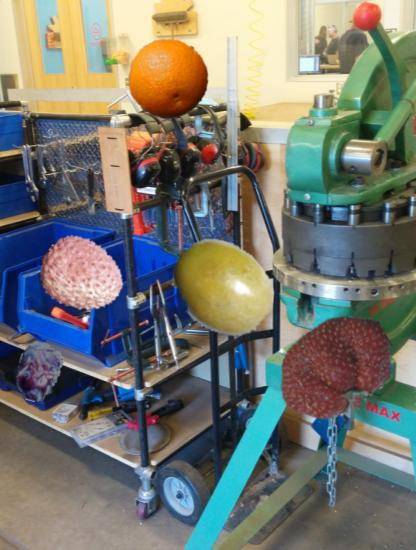Dates: (8, 342, 68, 402)
Lychee: (40, 234, 125, 319)
Maracuja: (168, 233, 278, 343)
Orange: (126, 38, 210, 122)
Strawberry: (273, 308, 398, 433)
